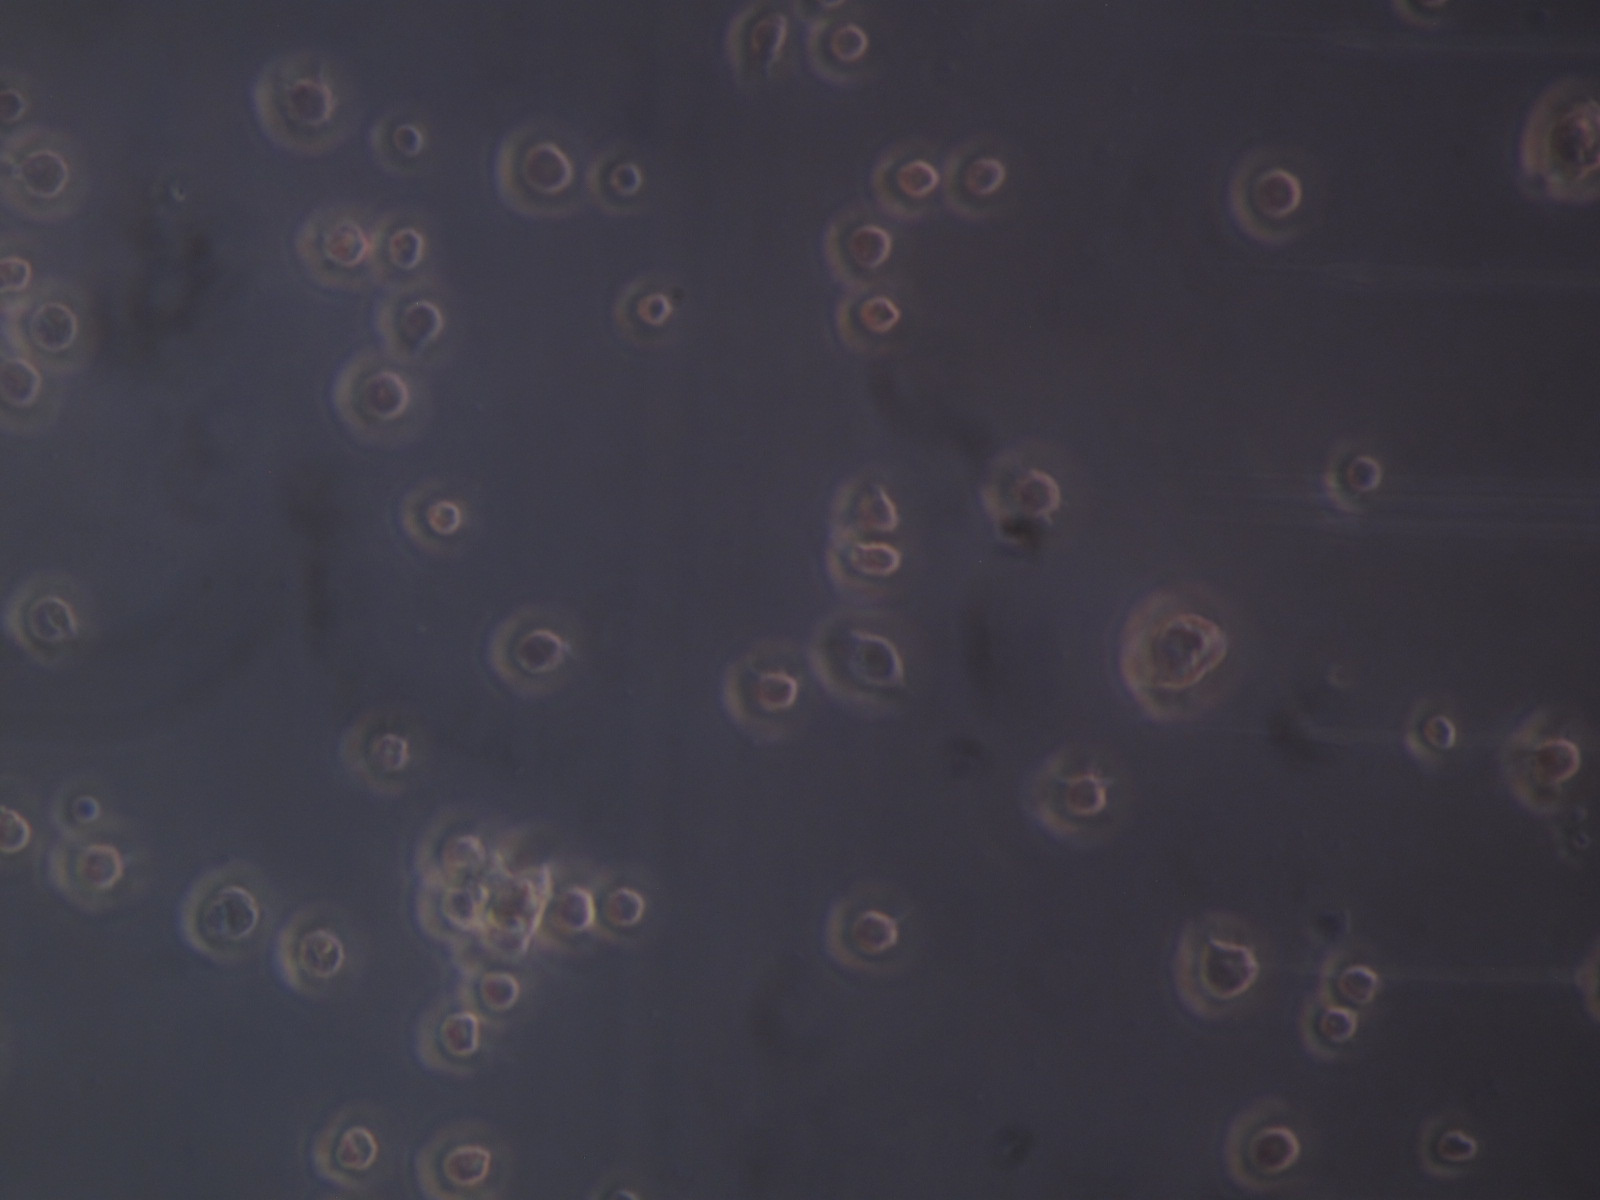hemo: (1117, 587, 1230, 722), (254, 53, 358, 154), (1521, 76, 1600, 205), (1175, 906, 1257, 1024), (811, 613, 906, 711), (1, 284, 101, 376), (1, 124, 92, 224), (1500, 705, 1582, 816), (496, 122, 583, 223), (411, 1122, 515, 1199), (181, 858, 260, 961), (331, 348, 406, 453), (1027, 753, 1107, 845), (718, 639, 797, 731), (1225, 1095, 1299, 1192), (271, 908, 345, 1005), (8, 568, 78, 669), (488, 606, 566, 697), (1225, 153, 1300, 246), (824, 890, 902, 978), (49, 826, 123, 913), (297, 203, 370, 291), (339, 710, 411, 799), (370, 280, 441, 371), (409, 803, 488, 880), (808, 13, 883, 89), (823, 534, 903, 605), (944, 139, 1008, 227), (823, 203, 892, 284), (722, 1, 789, 84), (311, 1104, 380, 1184), (981, 447, 1062, 516), (414, 998, 483, 1078), (370, 205, 433, 291), (485, 856, 542, 950), (826, 466, 905, 534), (399, 479, 464, 561), (1, 350, 64, 432), (871, 147, 939, 221), (587, 868, 648, 947), (831, 292, 900, 359), (409, 881, 488, 939), (539, 874, 597, 950), (1419, 1107, 1479, 1179), (1324, 437, 1382, 512), (587, 141, 644, 217), (460, 958, 519, 1030), (615, 281, 671, 350), (367, 111, 425, 178), (47, 776, 103, 843), (1317, 950, 1380, 1007), (1301, 995, 1356, 1060), (1407, 700, 1456, 768), (1, 255, 35, 311), (1, 805, 33, 858), (1, 84, 26, 127)
